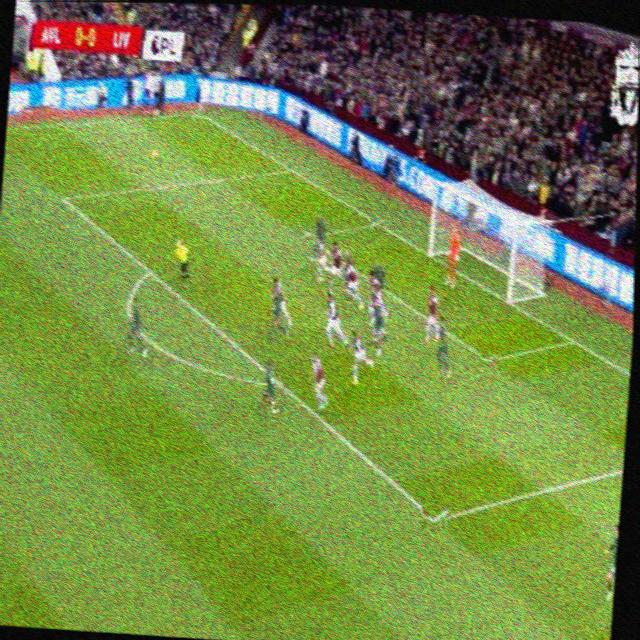bigarea_bottom_inner: (420, 501, 449, 535)
bigarea_top_inner: (56, 188, 71, 208)
bigarea_top_outter: (285, 163, 296, 175)
bottom_arc_area_intersection: (274, 374, 290, 397)
corner: (193, 108, 207, 120)
smallarea_bottom_inner: (479, 344, 498, 372)
smallarea_bottom_outter: (564, 328, 582, 351)
smallarea_top_inner: (301, 227, 314, 244)
smallarea_top_outter: (370, 214, 383, 232)
top_arc_area_intersection: (142, 261, 157, 282)
